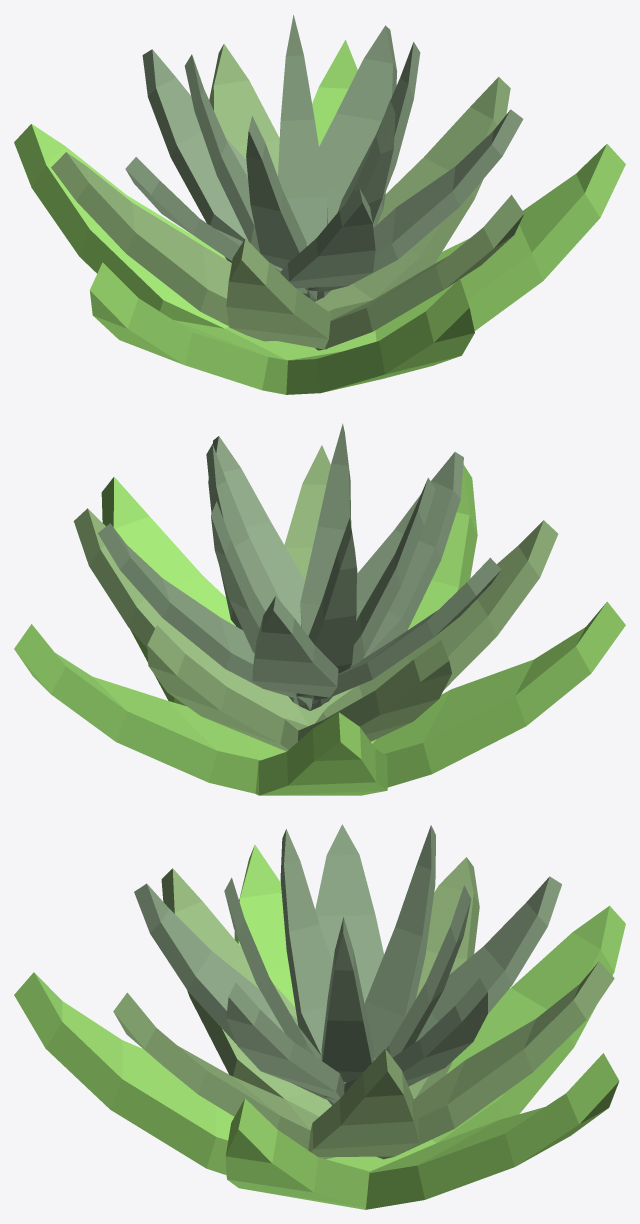
Rendered from desertPlant2.fbx.
The picture shows the model from 3 angles, top to bottom: view 1: azimuth 30°, elevation 25°; view 2: azimuth 150°, elevation 25°; view 3: azimuth 270°, elevation 25°; orthographic projection. The views are drawn at different scales.
Parts seen in each view (by area): view 1: Aloe Vera; view 2: Aloe Vera; view 3: Aloe Vera.
Boxes of the visible parts, box(x1,y1,x2,y2) form: Aloe Vera: box(14, 15, 625, 394); Aloe Vera: box(14, 423, 625, 795); Aloe Vera: box(14, 824, 625, 1209).
Bounding box in the file's own units: 425 × 226 × 408.
